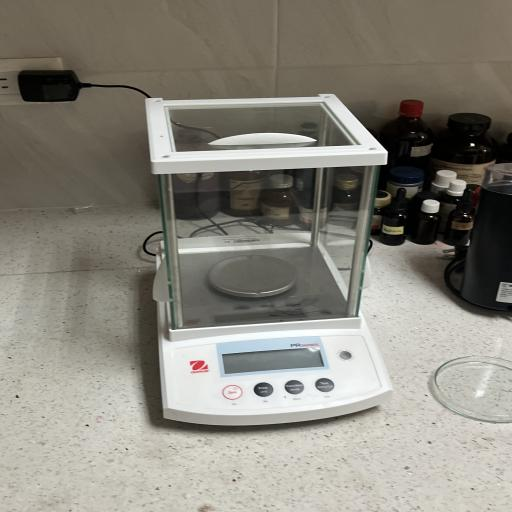Balanza_Analitica_Ohaus: (132, 86, 408, 435)
